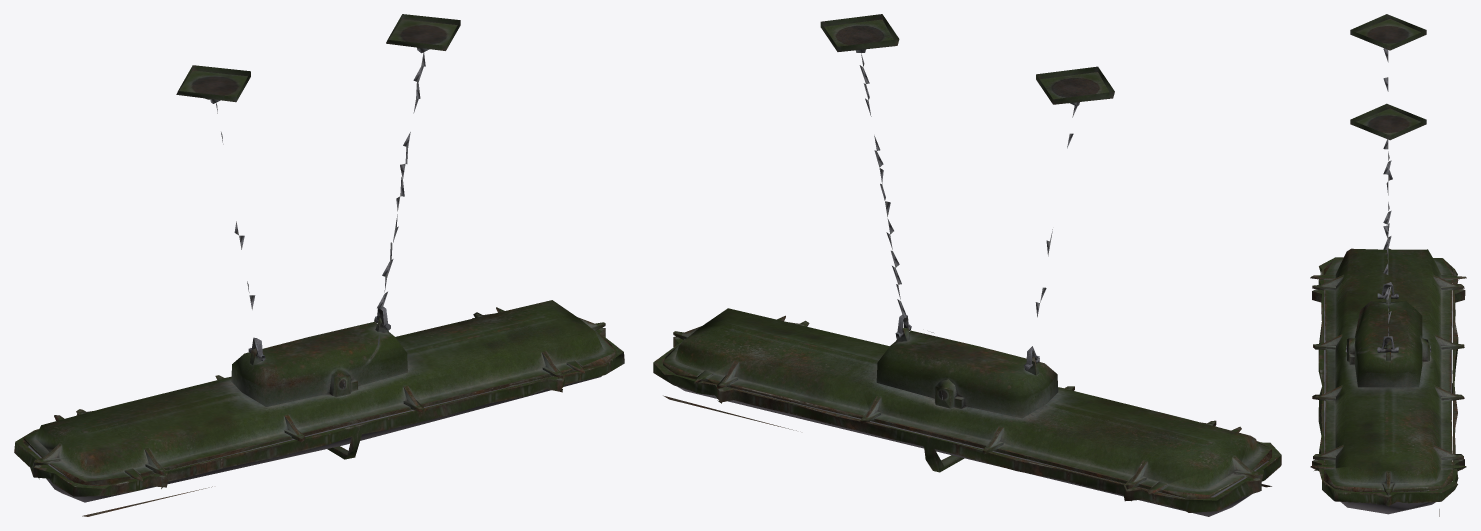
3 views of the same model, side by side, from view 1: azimuth 30°, elevation 25°; view 2: azimuth 150°, elevation 25°; view 3: azimuth 270°, elevation 25° (orthographic). The views are drawn at different scales.
Parts seen in each view (by area): view 1: caged_hanging_light; view 2: caged_hanging_light; view 3: caged_hanging_light.
Part boxes in pixels (x1,y1,x2,y2): caged_hanging_light: (14, 14, 624, 516); caged_hanging_light: (653, 14, 1281, 516); caged_hanging_light: (1310, 14, 1466, 516).
Size of the model in its own units: 1.16 by 0.7501 by 0.3149.
1 material, 1 textured.
